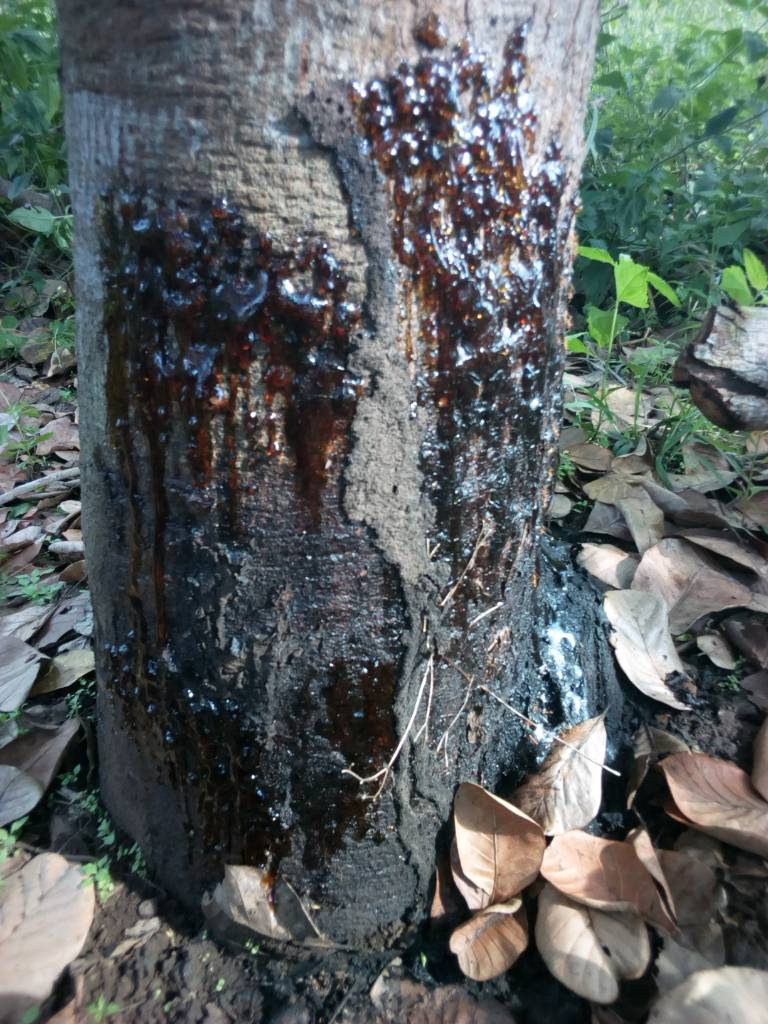Gommose: (102, 188, 393, 858), (379, 41, 575, 621)
